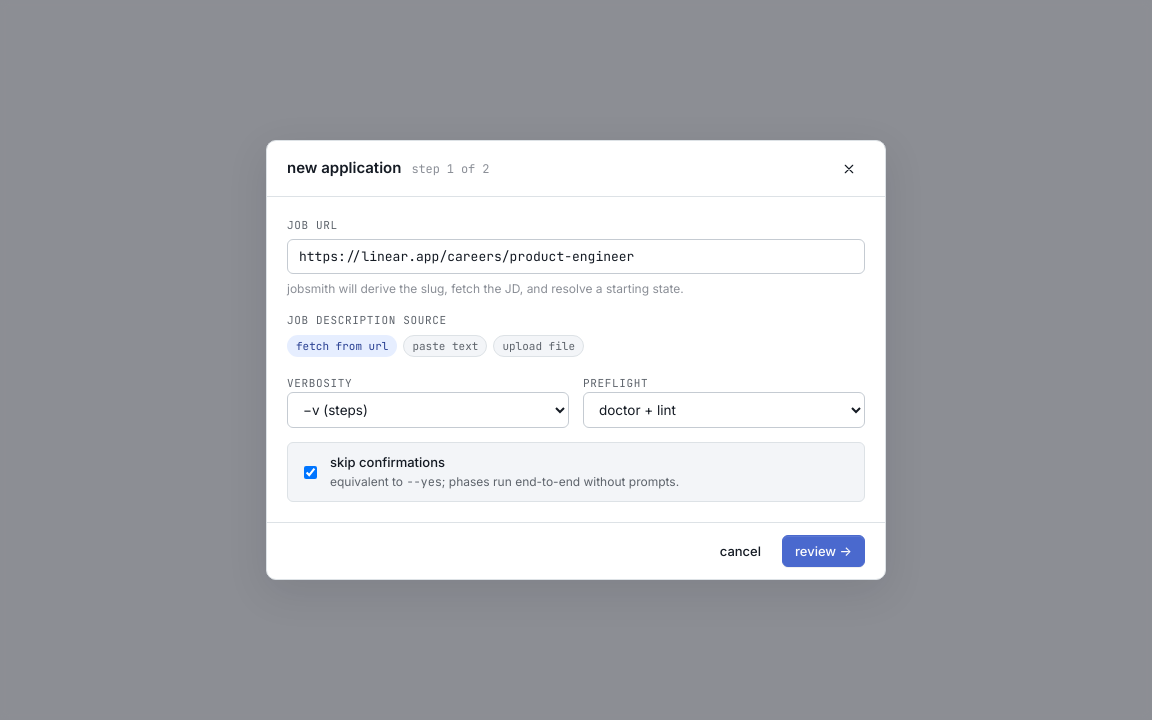
NewApplicationModal › step 2 preflight panel shows "checking…" while /api/doctor is loading
The image size is (1152, 720).
Click the button "review →" at (824,551), box [782,535,865,567]
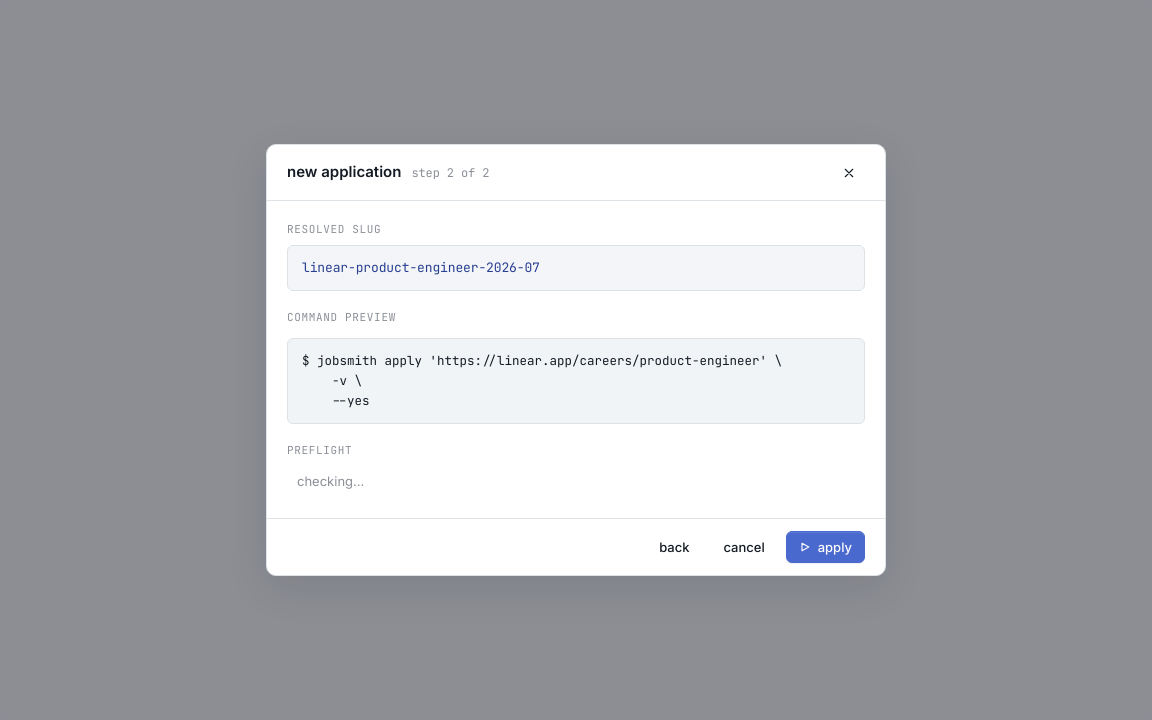
Expected: the text "checking…" is shown, [297,473,364,489]
